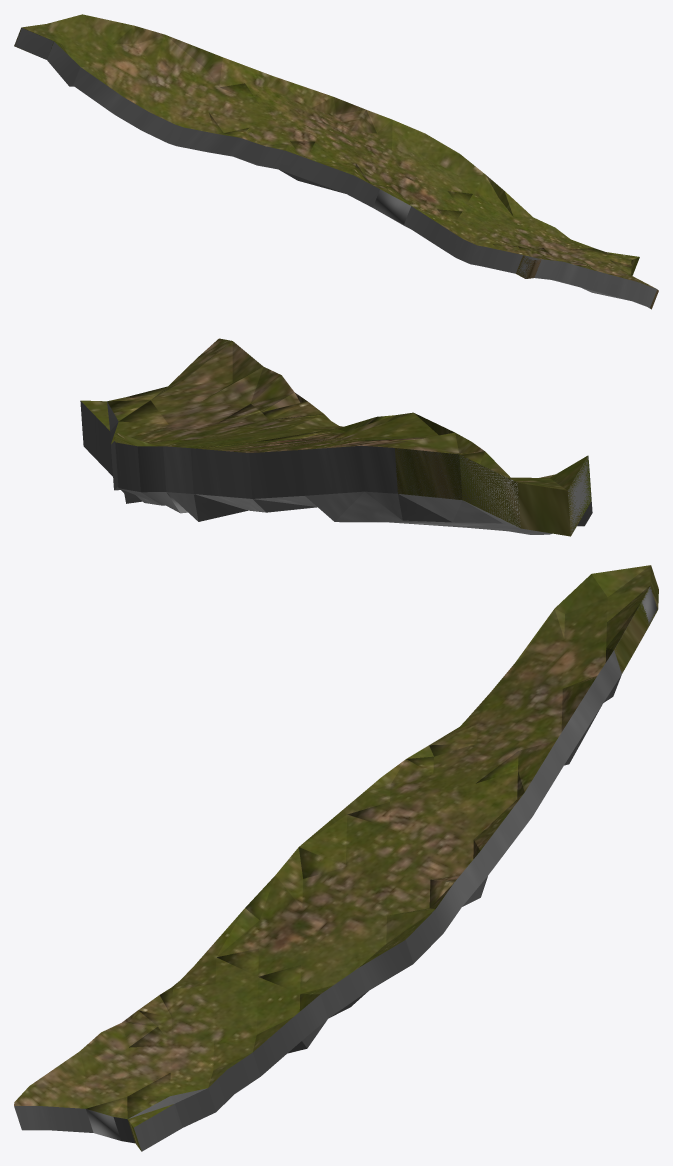
Rendered from terreno2.glb.
The picture shows the model from 3 angles, top to bottom: view 1: azimuth 30°, elevation 25°; view 2: azimuth 150°, elevation 25°; view 3: azimuth 270°, elevation 25°; orthographic projection. The views are drawn at different scales.
Visible parts, largest first — view 1: Geom3D; view 2: Geom3D; view 3: Geom3D.
Part boxes in pixels (x1,y1,x2,y2): Geom3D: (14, 14, 658, 309); Geom3D: (80, 338, 592, 536); Geom3D: (14, 565, 658, 1151).
Size of the model in its own units: 14.36 by 6.89 by 13.35.
2 materials, 2 textured.
